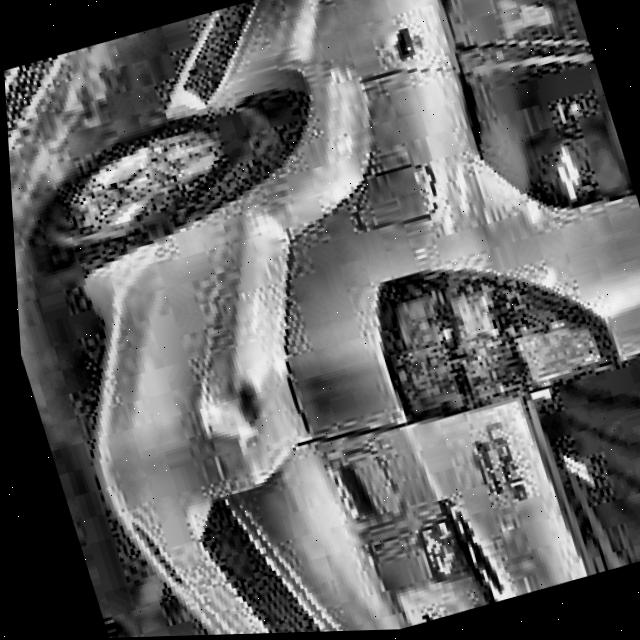bumper_dent: (187, 378, 265, 450)
